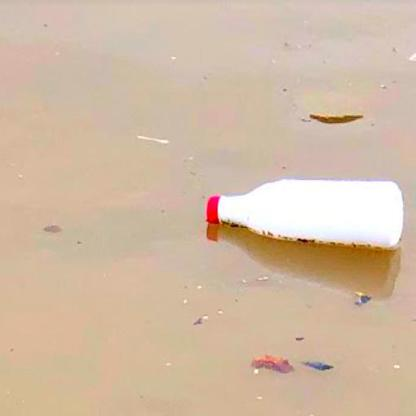plastic bottle: (206, 178, 404, 247)
